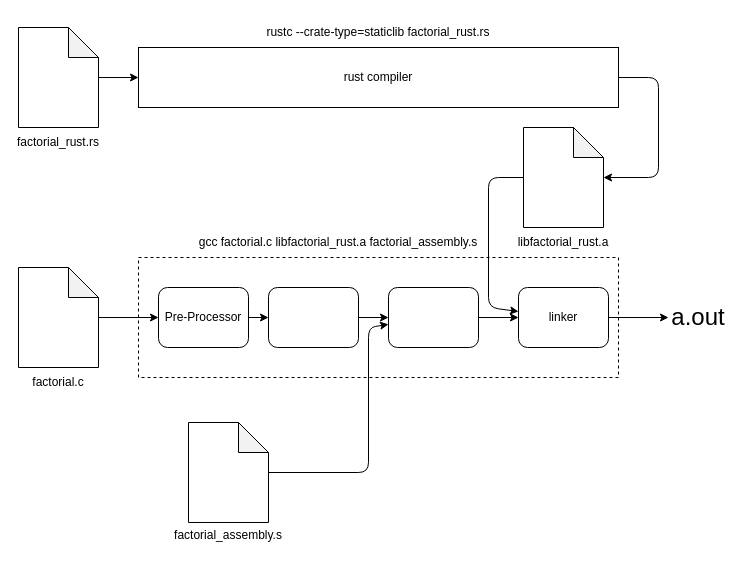
The diagram is 745 pixels wide and 569 high, and some of its shapes have lost their labels. Each missing label, with the centre of its shape:
"Assembler" goes at (433,317).
"Compiler" goes at (313,317).
